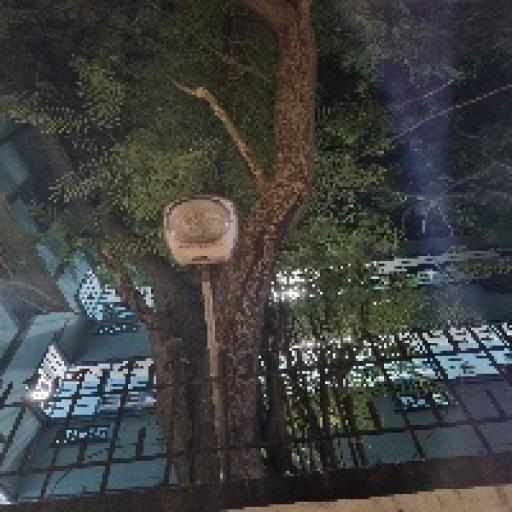Not Working: (153, 180, 253, 284)
